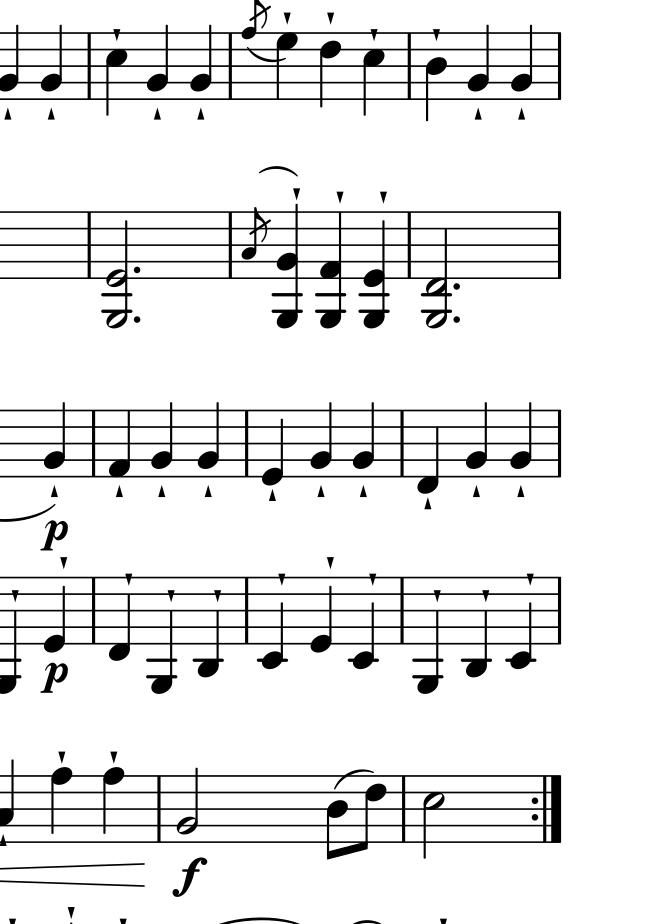2_-5_-1: (421, 210, 452, 329)
2_-5_0: (100, 210, 134, 329)
2_2: (174, 764, 202, 845)
2_5: (422, 774, 446, 860)
4_-1: (416, 408, 443, 496), (106, 574, 132, 665)
4_-2: (258, 575, 288, 670), (350, 576, 379, 673), (508, 575, 535, 670)
4_-3: (193, 574, 223, 680), (464, 576, 491, 681)
4_-5: (413, 576, 442, 697), (148, 575, 176, 696)
4_-5_0: (360, 210, 389, 330)
4_-5_1: (315, 211, 345, 329)
4_-5_2: (273, 203, 302, 330)
4_0: (309, 574, 334, 655), (261, 409, 287, 486), (42, 576, 67, 654)
4_1: (108, 408, 132, 480)
4_2: (352, 399, 380, 481), (196, 399, 223, 478), (309, 399, 335, 480), (464, 399, 490, 480), (466, 23, 492, 101), (190, 23, 215, 102), (509, 401, 534, 480), (145, 23, 170, 101), (150, 402, 175, 480), (44, 402, 69, 480), (510, 22, 534, 101), (41, 24, 65, 101)
4_4: (422, 30, 449, 122)
4_5: (360, 30, 388, 121), (104, 31, 130, 116)
4_6: (319, 32, 342, 109)
4_7: (275, 31, 301, 100)
4_8: (99, 765, 128, 846), (48, 766, 73, 846)
8_4: (323, 773, 349, 863)
8_6: (357, 773, 387, 852)
Appoggiature: (242, 1, 272, 101), (242, 207, 270, 280)
RightRepeatSign: (527, 774, 565, 842)
Single_barline: (551, 30, 568, 103), (552, 408, 568, 481), (551, 408, 567, 480), (551, 575, 567, 646), (550, 211, 567, 277), (86, 409, 102, 477), (394, 409, 410, 477), (396, 776, 412, 842), (81, 211, 97, 277), (239, 409, 254, 477), (82, 31, 97, 98), (401, 212, 416, 278), (223, 213, 238, 278), (239, 576, 253, 645), (403, 31, 416, 100), (395, 576, 408, 644), (153, 776, 166, 840), (87, 576, 99, 644)
Slur: (335, 769, 371, 790), (246, 47, 288, 64), (259, 164, 297, 179)
Staccatissimo: (334, 188, 346, 206), (378, 188, 390, 206), (48, 482, 60, 499), (516, 107, 528, 123), (276, 572, 288, 588), (515, 483, 526, 500), (151, 106, 163, 121), (325, 9, 337, 24), (481, 587, 491, 605), (432, 26, 443, 42), (291, 185, 302, 201), (113, 483, 124, 499), (267, 487, 278, 503), (315, 483, 326, 499), (422, 496, 433, 512), (324, 555, 335, 571), (2, 106, 13, 121), (46, 107, 57, 122), (282, 10, 293, 25), (156, 484, 167, 499), (202, 484, 213, 499), (212, 588, 223, 603), (432, 587, 443, 602), (473, 105, 483, 121), (359, 483, 369, 499), (472, 483, 482, 499), (58, 555, 68, 571), (525, 571, 535, 587), (196, 106, 206, 121), (122, 571, 132, 586), (367, 571, 377, 586), (10, 588, 20, 602), (166, 588, 176, 602), (58, 748, 66, 764), (369, 26, 378, 40), (110, 749, 118, 764)
dot: (130, 263, 142, 276), (131, 313, 142, 326), (451, 280, 462, 292), (451, 314, 462, 325)
f: (171, 852, 212, 898)
p: (38, 517, 73, 552), (38, 661, 67, 696)
